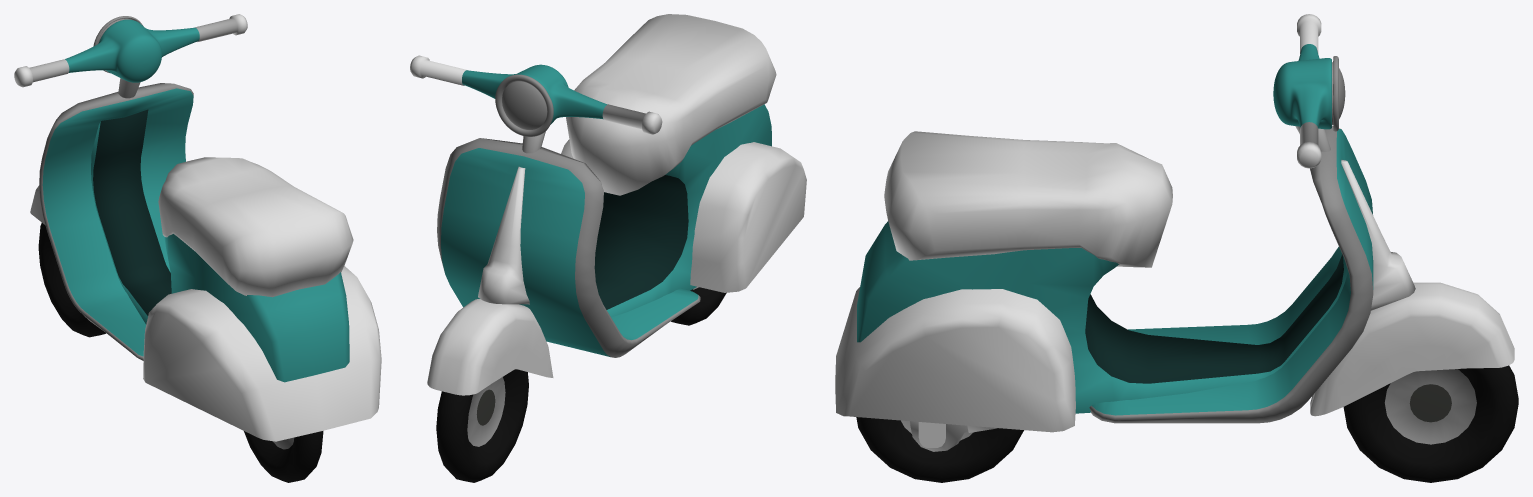
The model's file is MopedDownloaded.fbx.
The picture shows the model from 3 angles, left to right: view 1: azimuth 30°, elevation 25°; view 2: azimuth 150°, elevation 25°; view 3: azimuth 270°, elevation 25°; orthographic projection. The views are drawn at different scales.
Parts seen in each view (by area): view 1: Moped, Headlights_Frame_Chassis_0, Cylinder.001; view 2: Moped, Headlights_Frame_Chassis_0, Cylinder.001; view 3: Moped, Headlights_Frame_Chassis_0, Cylinder.001.
Part boxes in pixels (left/top/right/bottom): Moped: left=30, top=83, right=381, bottom=482; Headlights_Frame_Chassis_0: left=65, top=16, right=199, bottom=82; Cylinder.001: left=14, top=14, right=247, bottom=87; Moped: left=427, top=14, right=806, bottom=482; Headlights_Frame_Chassis_0: left=462, top=64, right=607, bottom=136; Cylinder.001: left=410, top=55, right=662, bottom=134; Moped: left=835, top=126, right=1518, bottom=482; Headlights_Frame_Chassis_0: left=1273, top=44, right=1345, bottom=131; Cylinder.001: left=1297, top=14, right=1321, bottom=168.
Size of the model in its own units: 0.8865 by 1.89 by 1.29.
